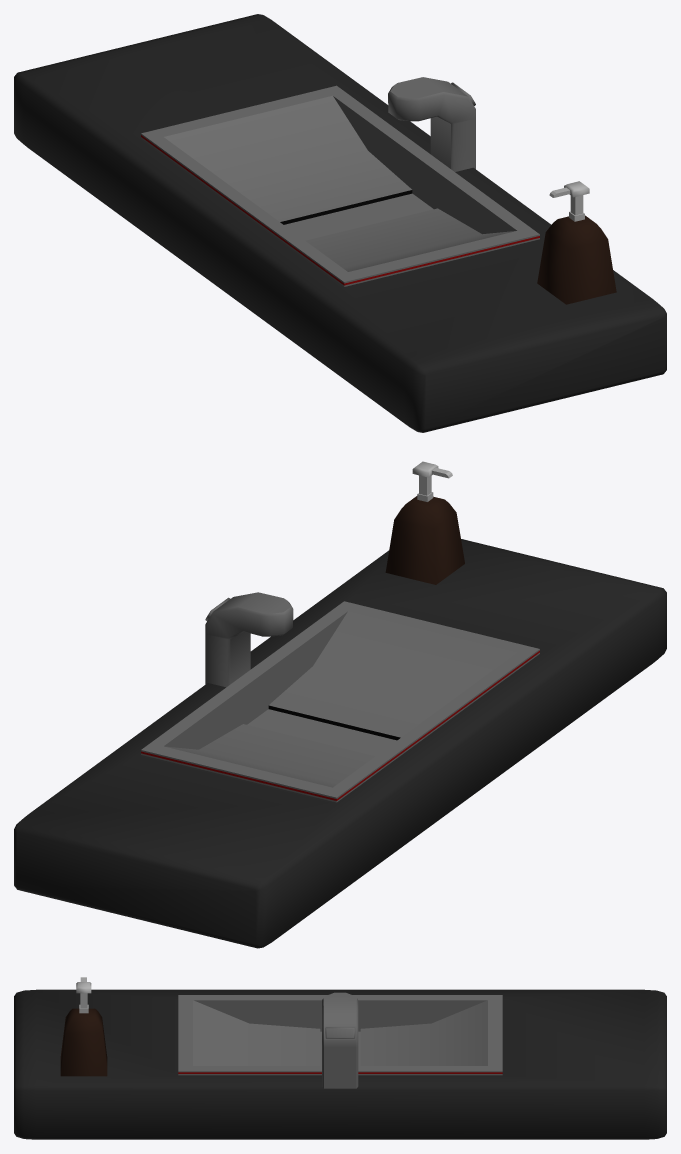
File: Pica.FBX
The picture shows the model from 3 angles, top to bottom: view 1: azimuth 30°, elevation 25°; view 2: azimuth 150°, elevation 25°; view 3: azimuth 270°, elevation 25°; orthographic projection. The views are drawn at different scales.
Visible parts, largest first — view 1: Box015, Box017, Box016; view 2: Box015, Box017, Box016; view 3: Box015, Box016, Box017.
Part boxes in pixels (x1=…): Box015: x1=14, y1=14, x2=666, y2=432; Box017: x1=537, y1=181, x2=616, y2=304; Box016: x1=388, y1=77, x2=475, y2=171; Box015: x1=14, y1=539, x2=666, y2=948; Box017: x1=385, y1=461, x2=464, y2=584; Box016: x1=205, y1=592, x2=293, y2=687; Box015: x1=14, y1=989, x2=666, y2=1139; Box016: x1=322, y1=992, x2=358, y2=1088; Box017: x1=60, y1=977, x2=107, y2=1076.
Bounding box in the file's own units: 50 × 32.49 × 140.
